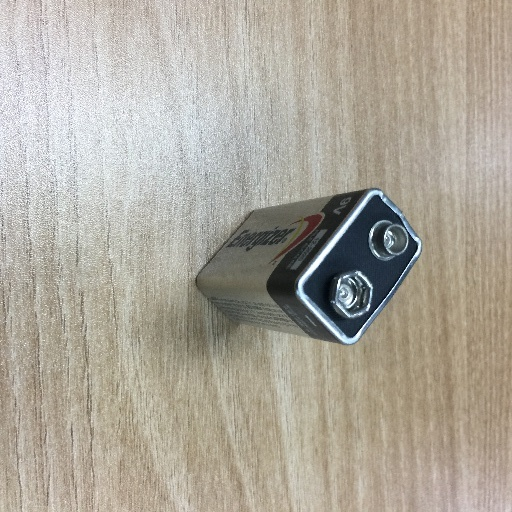Battery_3: (187, 188, 432, 357)
